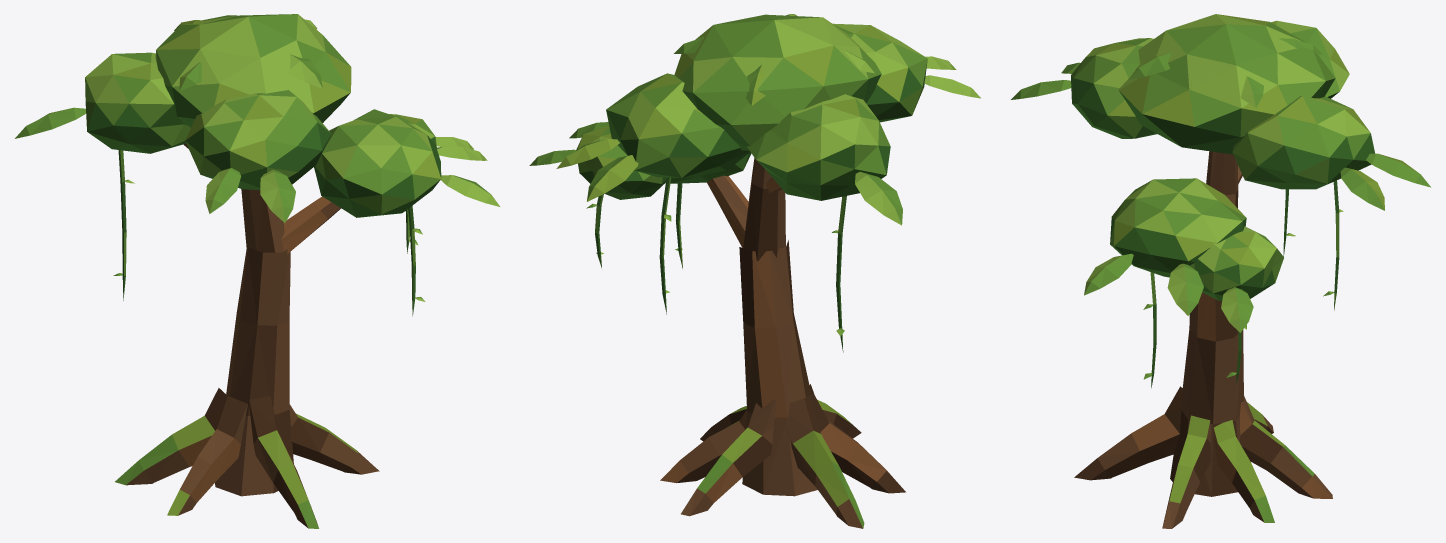
File: tree_jungle_2.glb
3 renders of one model, left to right at view 1: azimuth 30°, elevation 25°; view 2: azimuth 150°, elevation 25°; view 3: azimuth 270°, elevation 25°, orthographic.
Parts seen in each view (by area): view 1: tree_jungle_2; view 2: tree_jungle_2; view 3: tree_jungle_2.
Boxes of the visible parts, x1,y1,x2,y2 form: tree_jungle_2: [15, 14, 499, 528]; tree_jungle_2: [529, 14, 980, 528]; tree_jungle_2: [1011, 14, 1430, 528].
Bounding box in the file's own units: 6.61 × 6.97 × 5.84.
